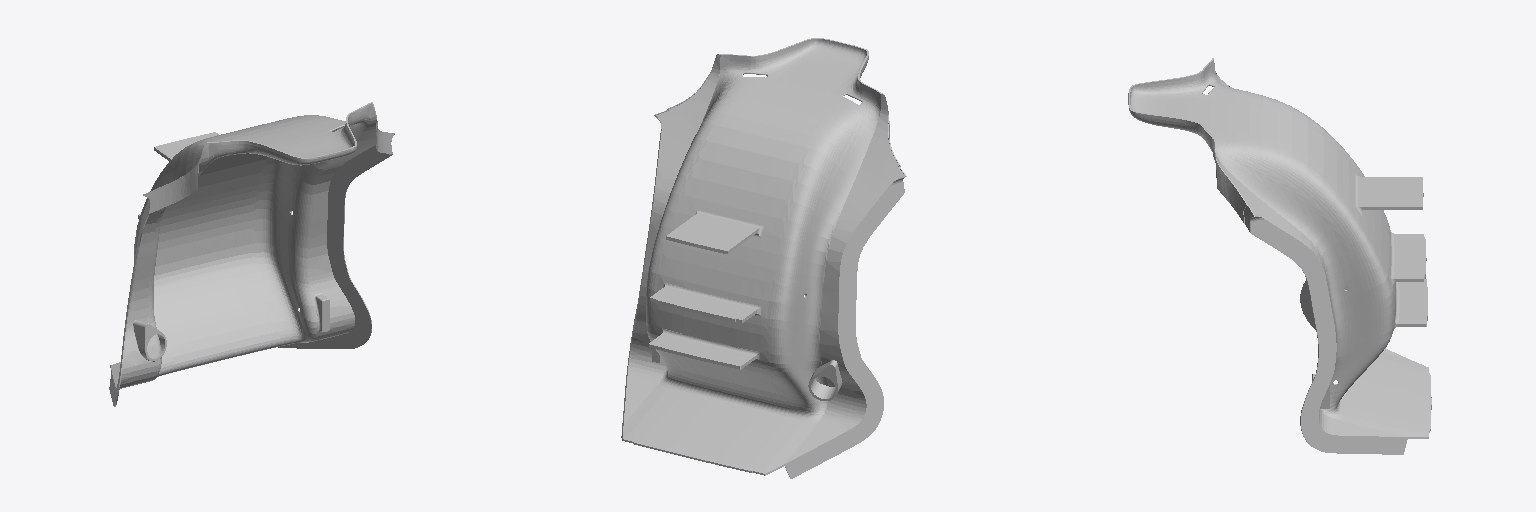
The model's file is Seat.obj.
3 renders of one model, left to right at view 1: azimuth 30°, elevation 25°; view 2: azimuth 150°, elevation 25°; view 3: azimuth 270°, elevation 25°, orthographic.
Parts seen in each view (by area): view 1: Seat (2); view 2: Seat (2); view 3: Seat (2).
Boxes of the visible parts, x1=… form: Seat (2): x1=109, y1=102, x2=394, y2=406; Seat (2): x1=621, y1=38, x2=906, y2=478; Seat (2): x1=1128, y1=58, x2=1431, y2=454.
Bounding box in the file's own units: 82.2 × 97.57 × 85.01.